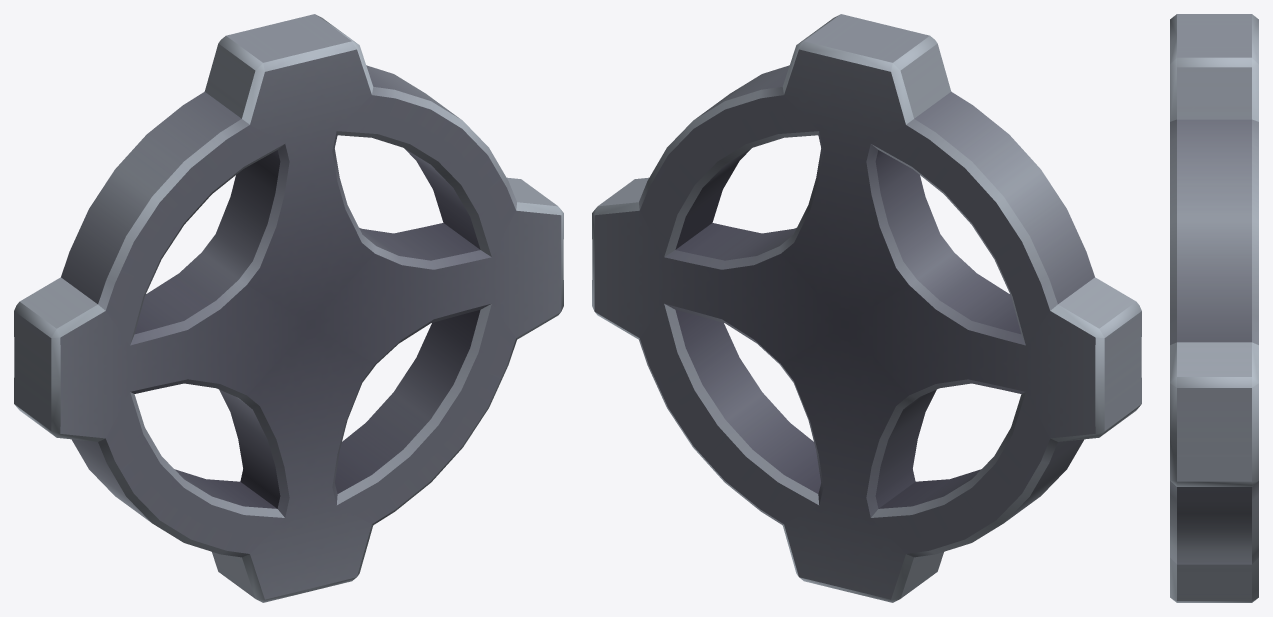
File: elf_cog_small.fbx
The picture shows the model from 3 angles, left to right: view 1: azimuth 30°, elevation 25°; view 2: azimuth 150°, elevation 25°; view 3: azimuth 270°, elevation 25°; orthographic projection.
Parts seen in each view (by area): view 1: elf_cog_small; view 2: elf_cog_small; view 3: elf_cog_small.
Boxes of the visible parts, x1=… form: elf_cog_small: x1=14, y1=14, x2=563, y2=602; elf_cog_small: x1=592, y1=14, x2=1141, y2=602; elf_cog_small: x1=1170, y1=14, x2=1258, y2=602.
Bounding box in the file's own units: 355 × 357 × 52.65.
